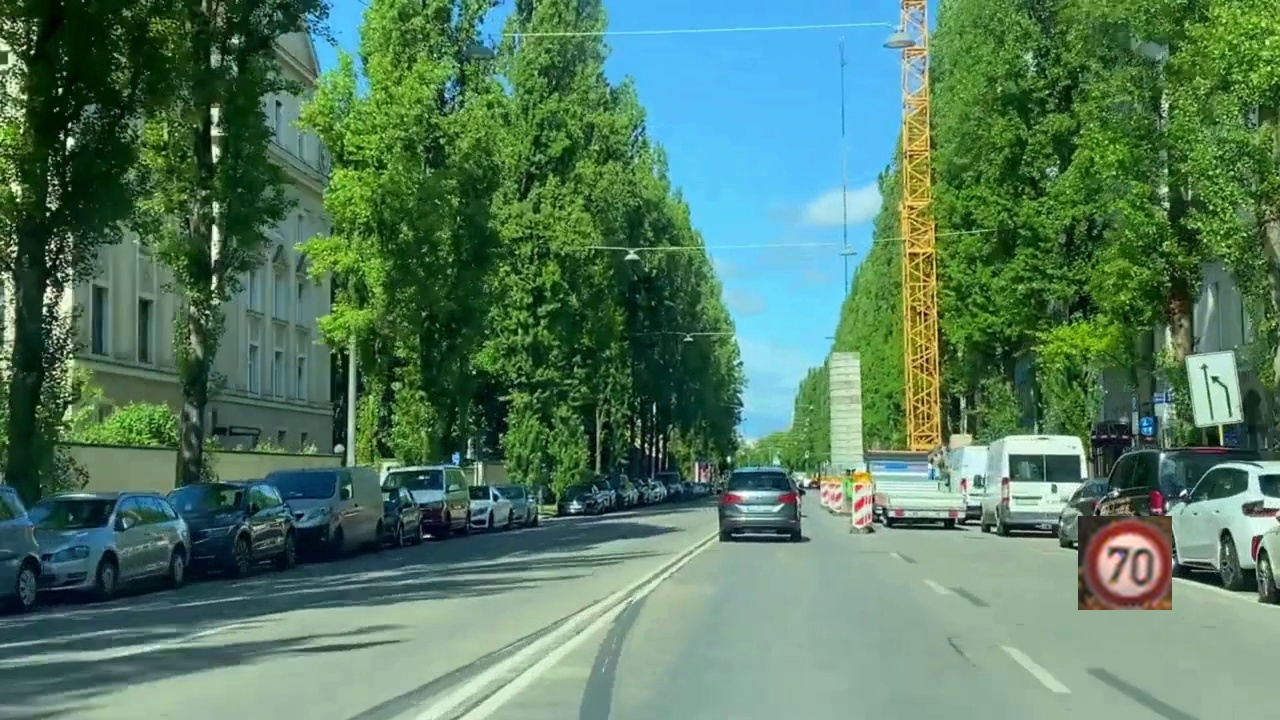Speed 70: (1078, 516, 1172, 610)
